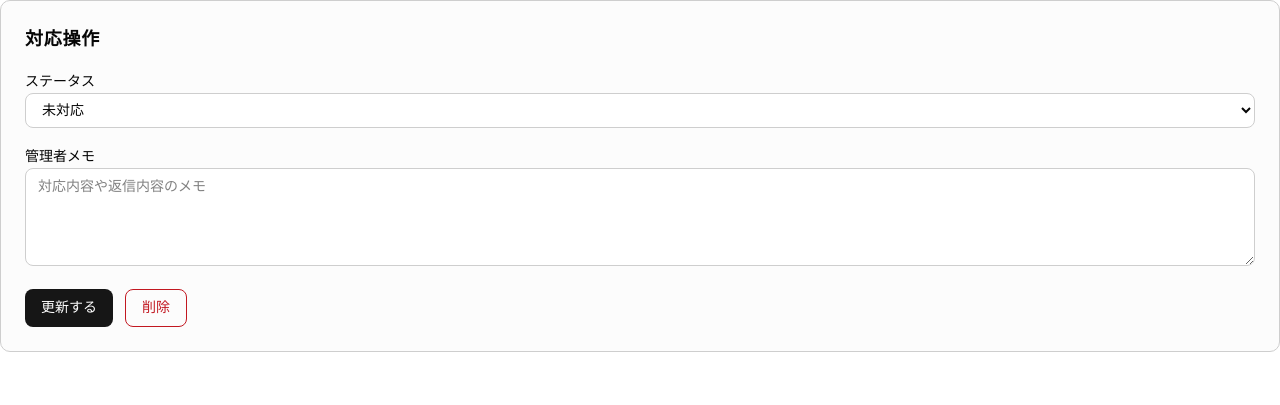
Test: ContactDetailActions › shows error message on failed update
Click the button "更新する". click: {"x": 69, "y": 308}
box: [25, 289, 113, 327]
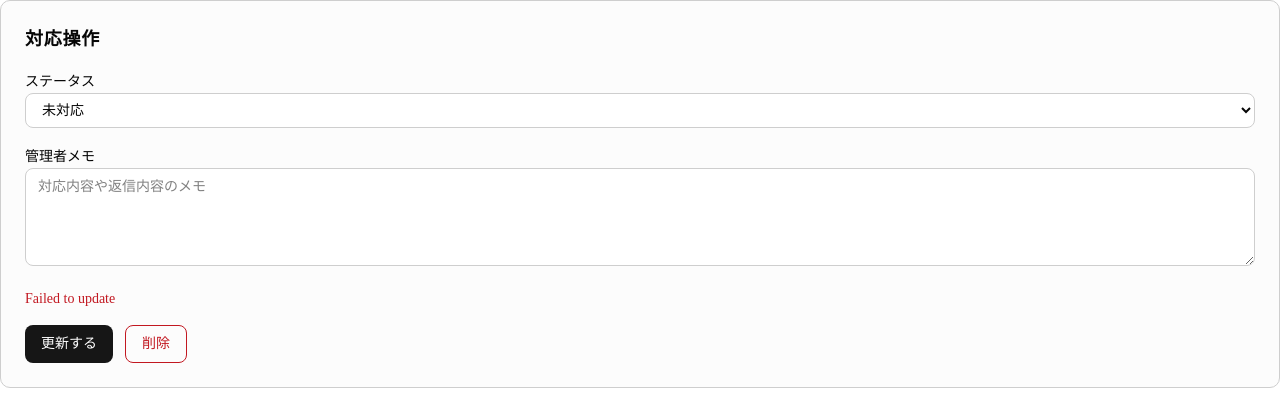
Check: the text "Failed to update" is shown, box [25, 291, 115, 306]
